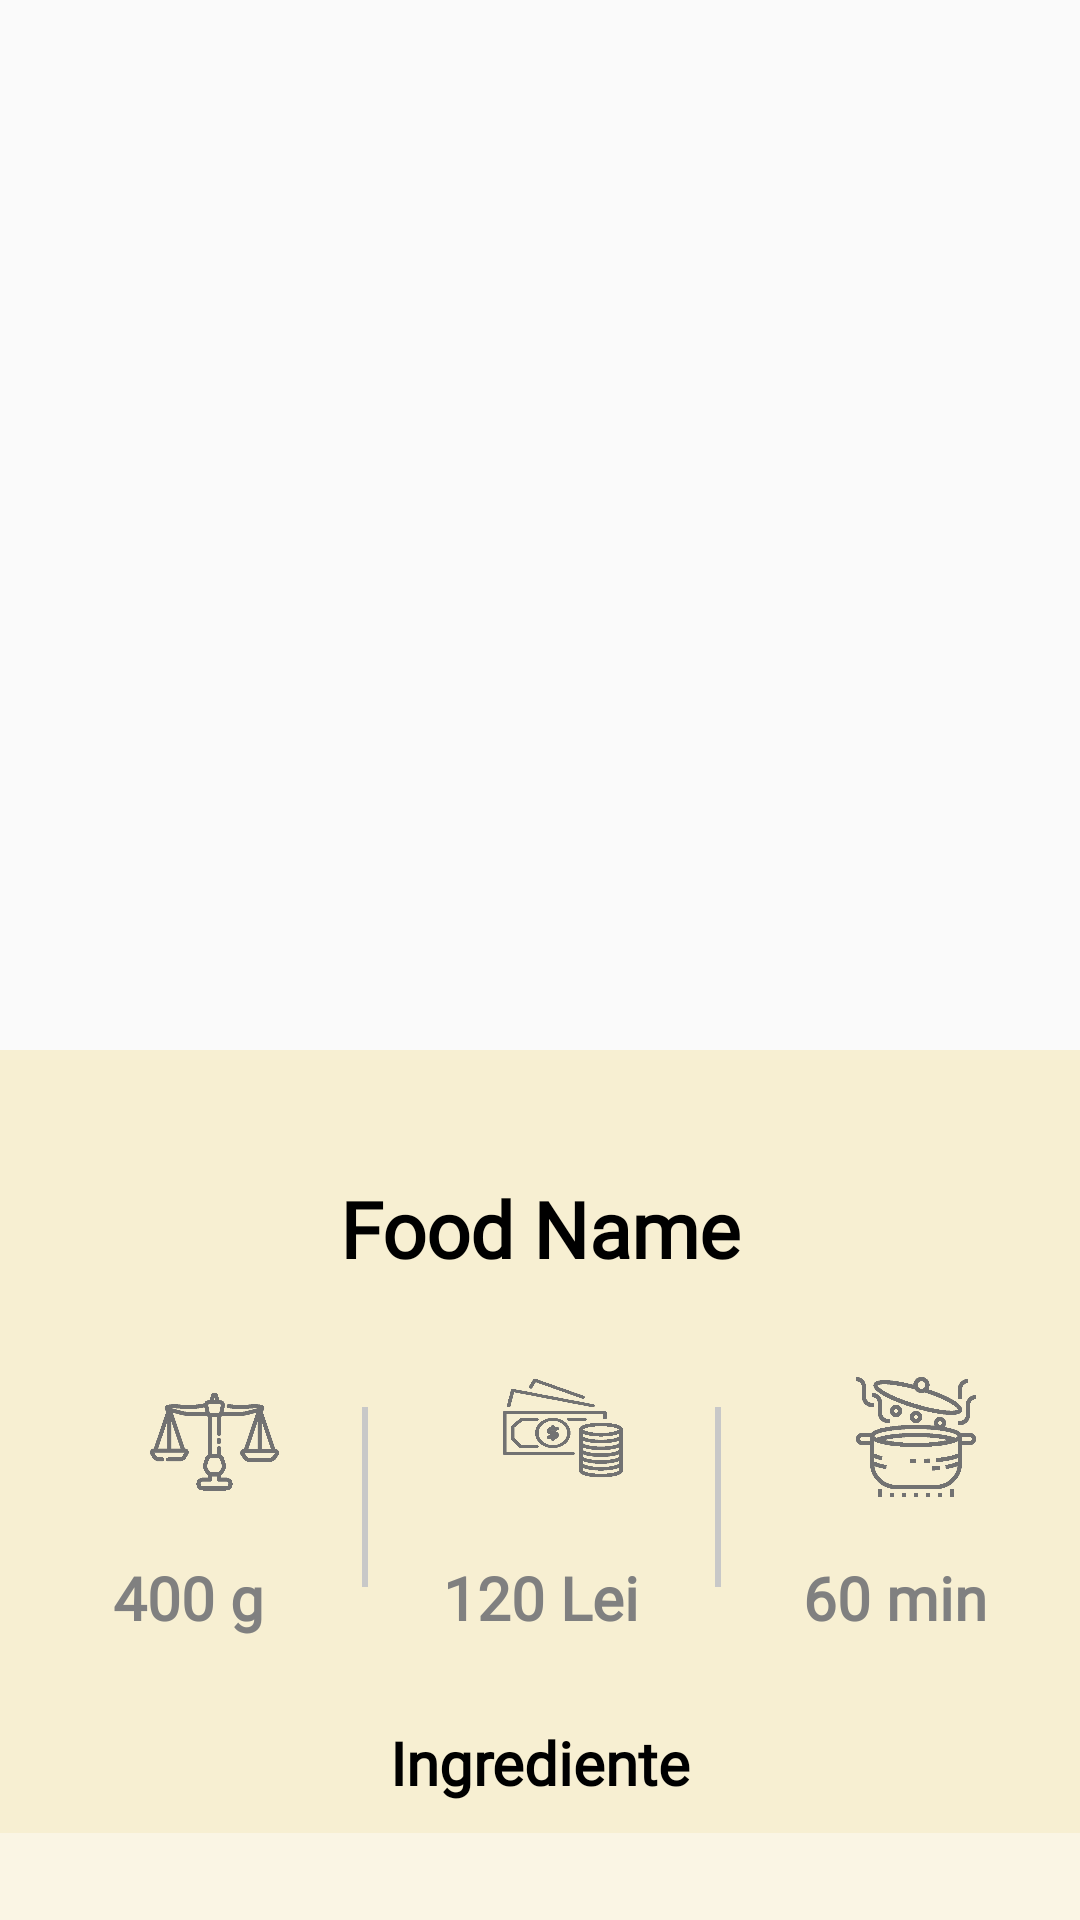

Where icons sit on this 1080x1920 app screen, as (x1, y1, x2, y2):
cooking time: (856, 1377, 976, 1497)
libra: (150, 1393, 279, 1491)
money: (503, 1379, 623, 1477)
